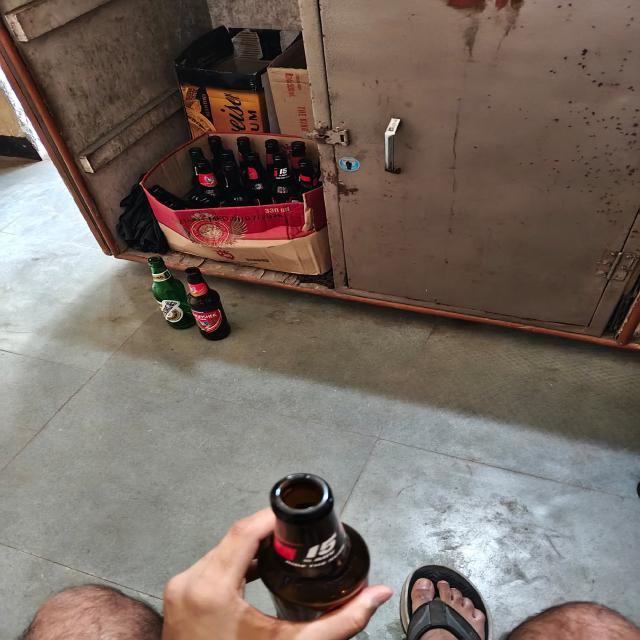Alcohol-Bottle-Detection: (254, 477, 391, 615), (150, 135, 316, 205), (176, 261, 240, 344), (142, 251, 185, 330)
